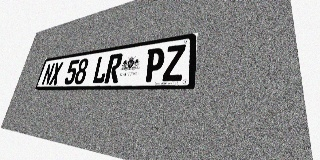5: (63, 59, 80, 85)
8: (73, 58, 90, 84)
L: (91, 55, 110, 84)
N: (41, 63, 55, 85)
P: (143, 47, 165, 82)
R: (104, 53, 123, 83)
X: (49, 62, 64, 85)
Z: (162, 44, 186, 81)
